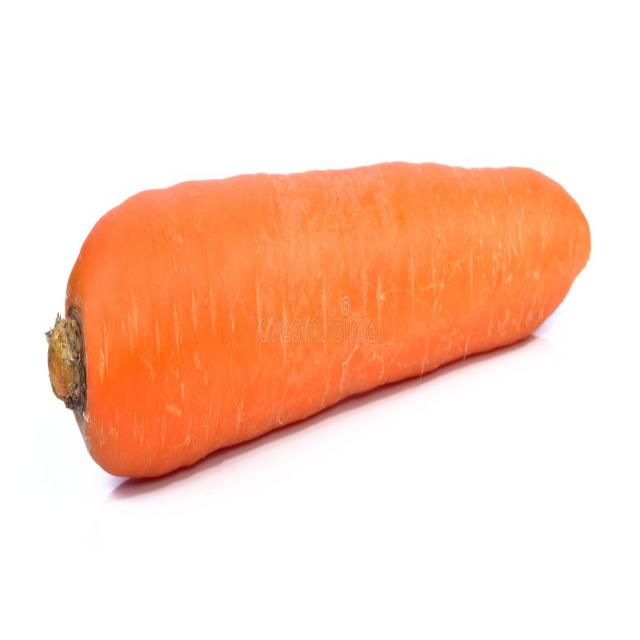Carrot: (40, 162, 598, 485)
